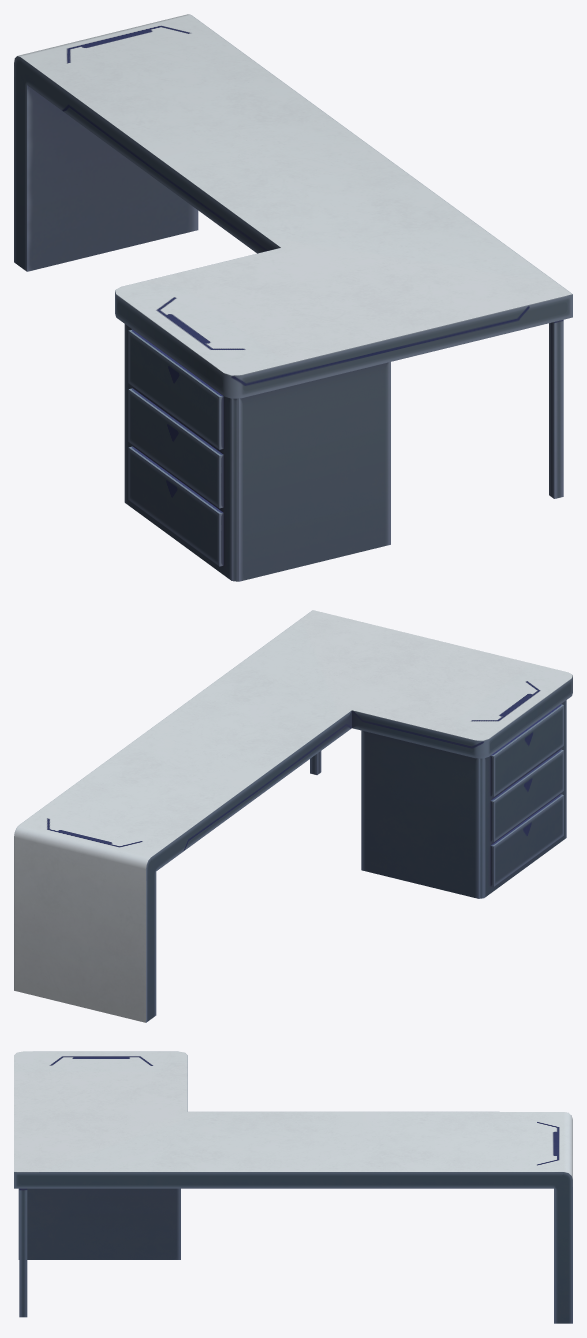
The model's file is mesa2.fbx.
3 views of the same model, one above another, from view 1: azimuth 30°, elevation 25°; view 2: azimuth 150°, elevation 25°; view 3: azimuth 270°, elevation 25° (orthographic). The views are drawn at different scales.
Visible parts, largest first — view 1: mesa2; view 2: mesa2; view 3: mesa2.
Boxes of the visible parts, x1=… form: mesa2: x1=14, y1=14, x2=572, y2=581; mesa2: x1=14, y1=610, x2=572, y2=1022; mesa2: x1=14, y1=1051, x2=572, y2=1323.
Size of the model in its own units: 158 by 92.77 by 310.
1 material, 1 textured.
